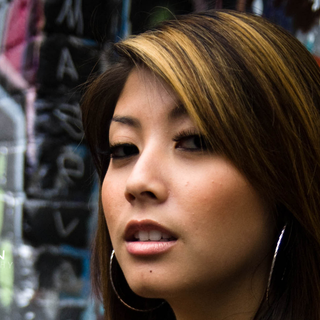eye: (168, 132, 222, 157), (101, 140, 143, 164)
